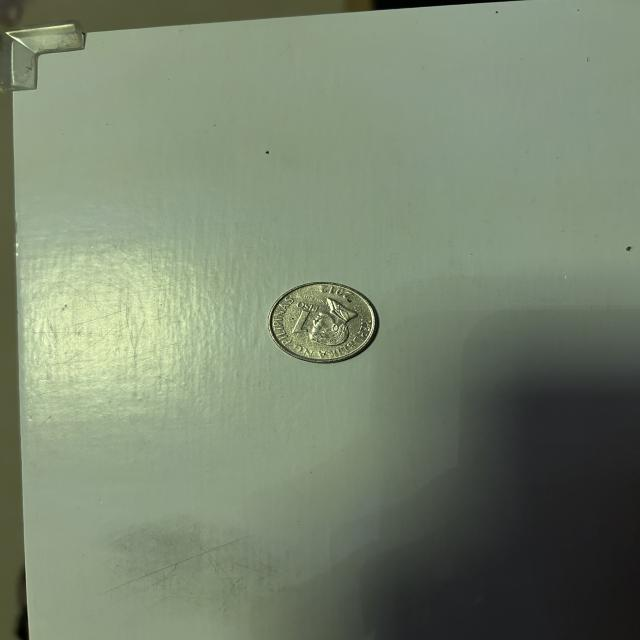1_Old_Front: (291, 300, 318, 338)
